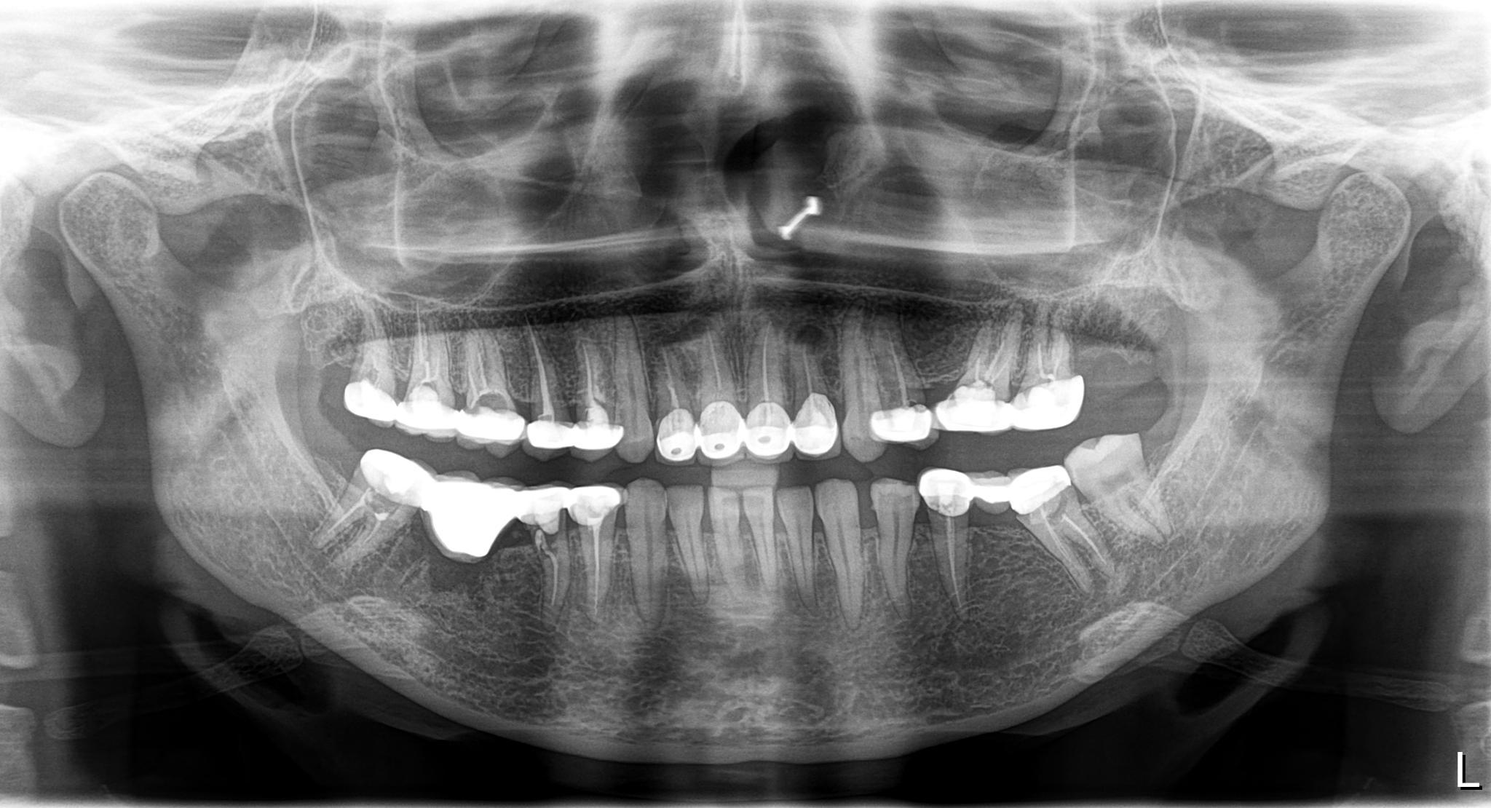Endodontically Treated Tooth: (339, 459, 411, 584), (943, 309, 1007, 449), (1012, 306, 1074, 444), (865, 318, 927, 434), (1027, 473, 1083, 601), (923, 484, 975, 610), (430, 473, 480, 598), (460, 333, 519, 431), (979, 477, 1021, 610), (695, 331, 740, 451), (497, 490, 539, 617), (408, 315, 449, 443), (586, 331, 628, 453), (659, 335, 697, 460), (542, 480, 583, 594), (528, 331, 569, 441), (577, 491, 618, 597), (759, 317, 791, 444), (806, 318, 838, 438)
Missing Tooth: (1094, 322, 1164, 418), (295, 320, 340, 422)
